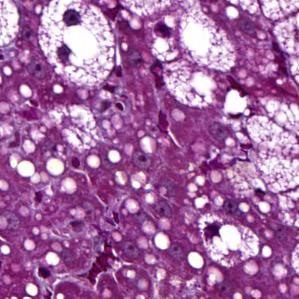ballooning: (141, 14, 236, 110), (35, 2, 120, 89), (198, 213, 262, 271)
